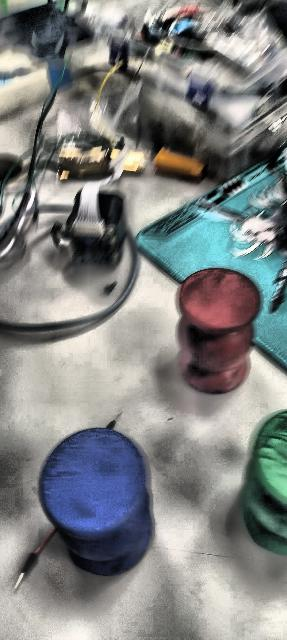blue: (39, 424, 154, 576)
green: (239, 403, 287, 556)
red: (171, 264, 271, 397)
